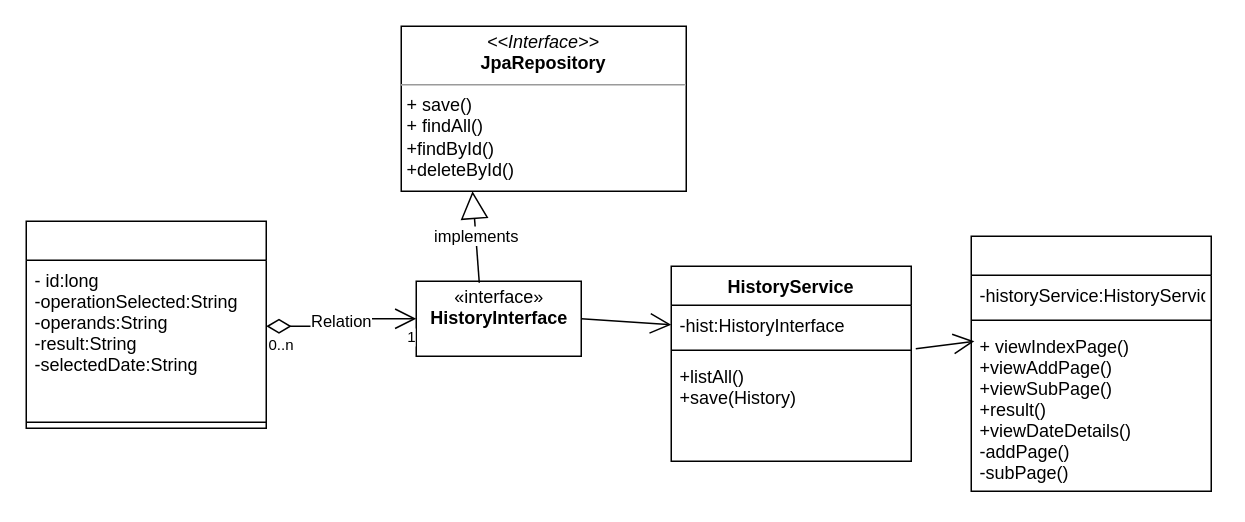
The diagram is 1245 pixels wide and 522 high, and some of its shapes have lost their labels. The shapes that lost their labels are listed below. From the top down, each one's box as (x1, y1, x2, y2) in pixels, then its label:
(25, 220, 266, 428): History
(970, 235, 1211, 491): AppController
